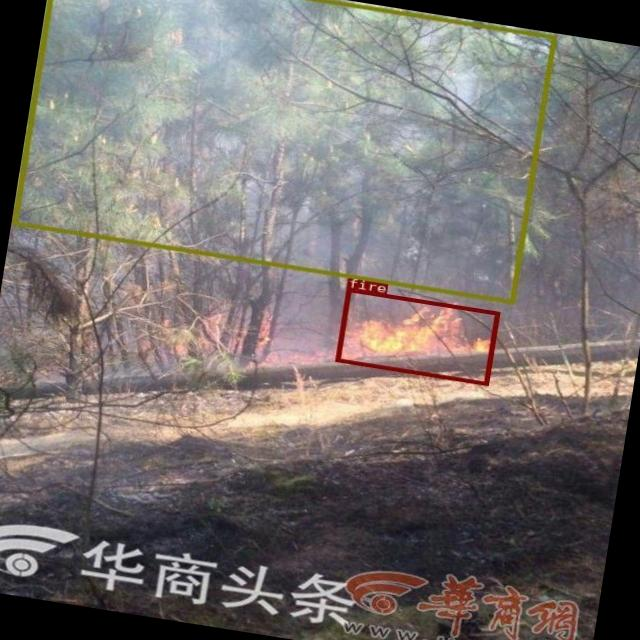fire: (334, 288, 500, 386)
smoke: (12, 0, 555, 304)
